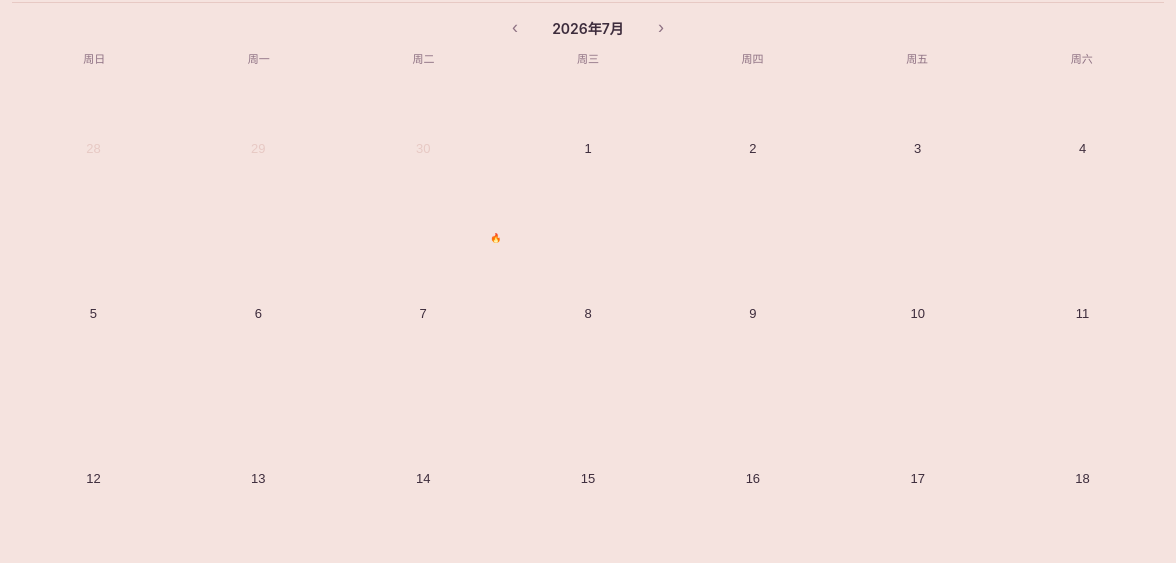
Test: CalendarView › 点击 ‹/› 切换月份并重新拉取
The width and height of the screenshot is (1176, 563).
Click the button named "下个月". click: (661, 28)
box: [648, 13, 674, 42]
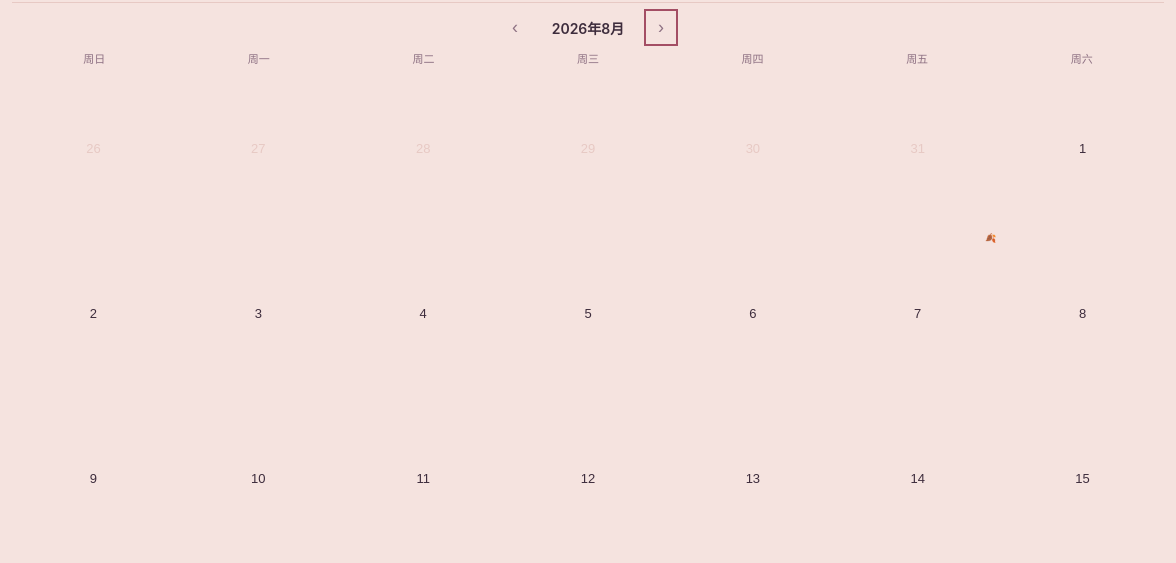
Now the text "2026年8月" is shown, box [552, 20, 624, 36]
Click the button named "上个月". click: (515, 28)
box: [502, 13, 528, 42]
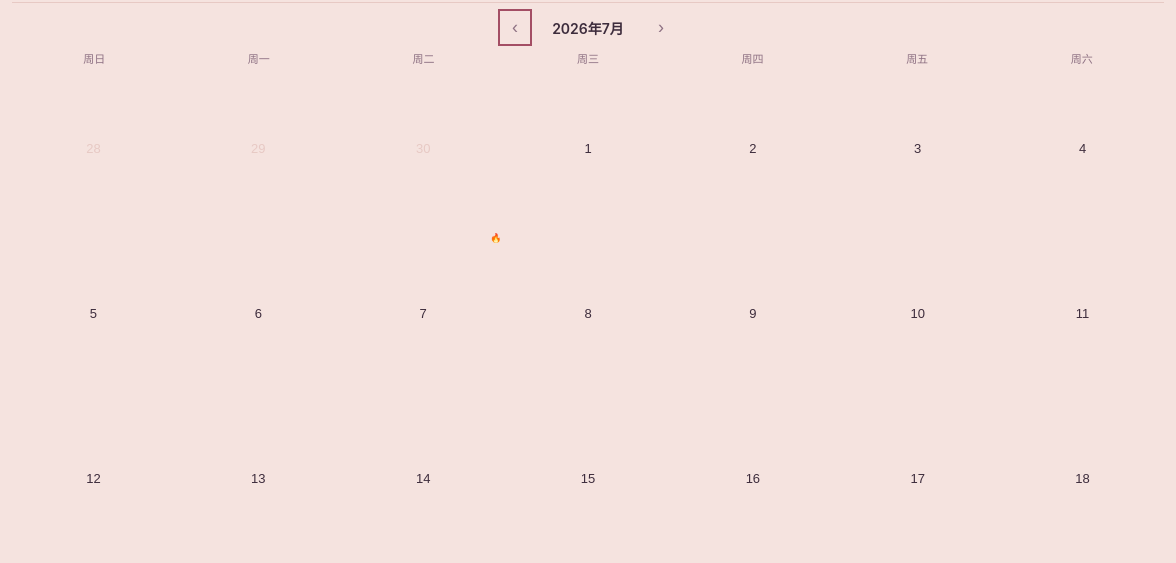
Click the button named "上个月". click: (515, 28)
box: [502, 13, 528, 42]
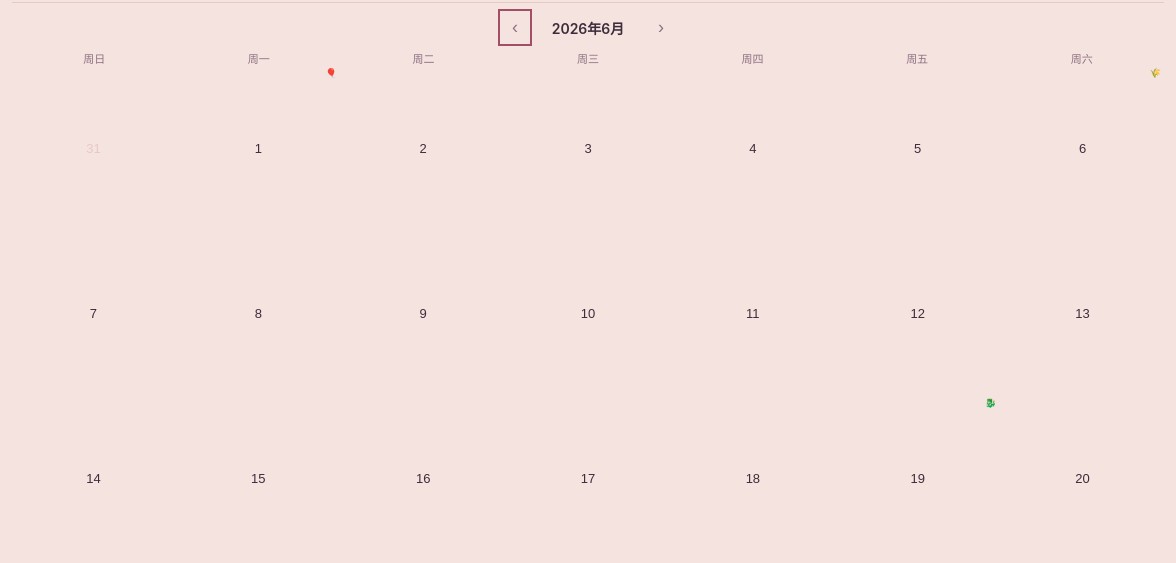
Now the text "2026年6月" is shown, box [552, 20, 624, 36]
